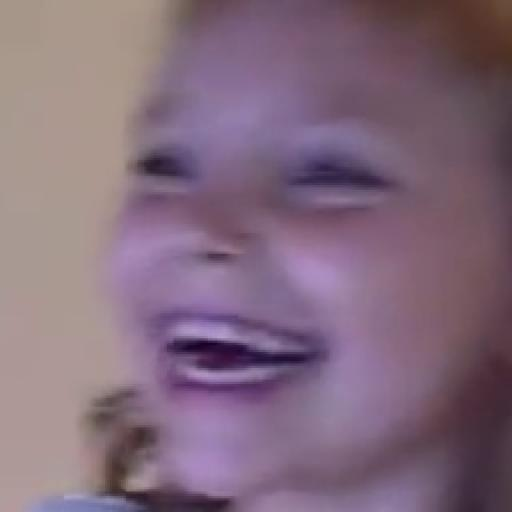Autism: (70, 0, 512, 512)
